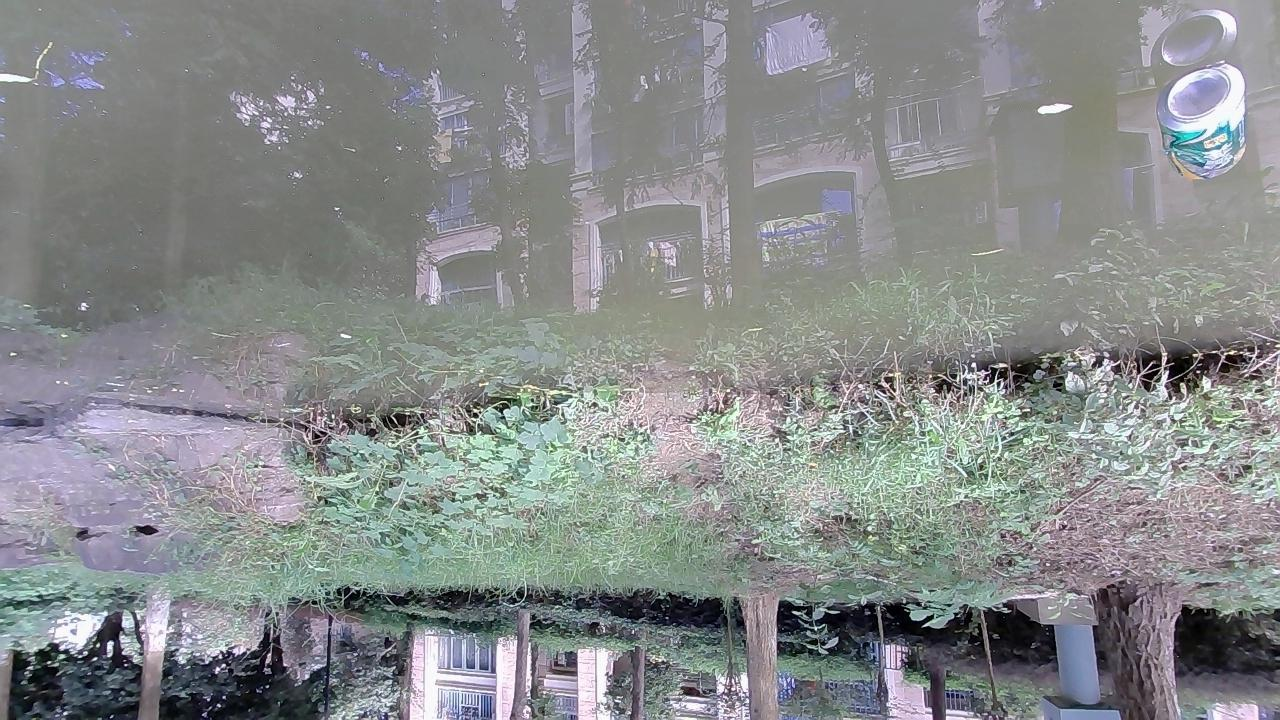Metal: (1153, 61, 1248, 183)
